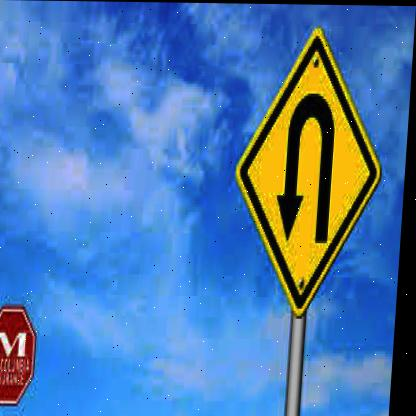U-turn: (227, 26, 394, 316)
